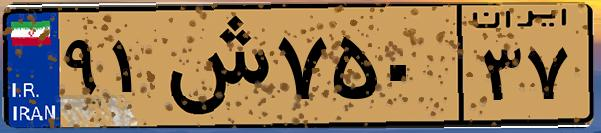0: (385, 28, 445, 110)
1: (110, 28, 158, 98)
3: (475, 38, 525, 113)
5: (330, 28, 385, 110)
7: (270, 28, 330, 110), (525, 38, 570, 115)
9: (57, 26, 110, 100)
ش: (158, 12, 270, 120)
